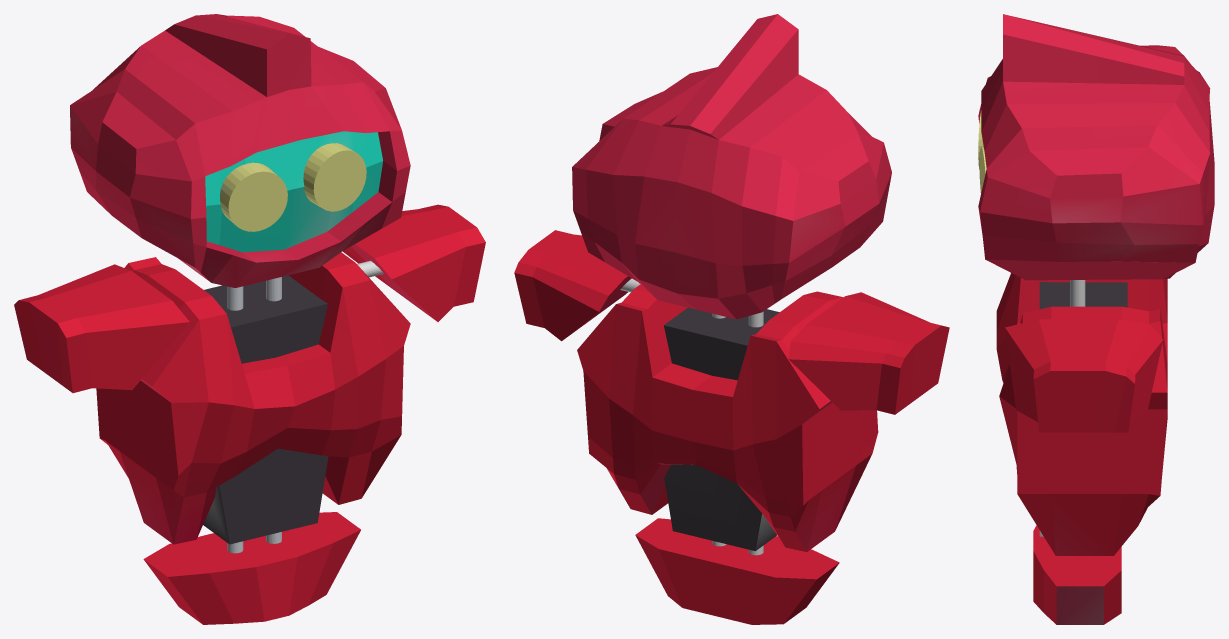
File: Robot.fbx
3 views of the same model, side by side, from view 1: azimuth 30°, elevation 25°; view 2: azimuth 150°, elevation 25°; view 3: azimuth 270°, elevation 25° (orthographic). The views are drawn at different scales.
Visible parts, largest first — view 1: Cube; view 2: Cube; view 3: Cube.
Part boxes in pixels (x1,y1,x2,y2): Cube: (14, 14, 485, 624); Cube: (514, 14, 949, 624); Cube: (978, 14, 1214, 624).
Size of the model in its own units: 273 by 375 by 139.
